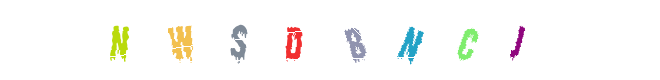B: (291, 0, 371, 80)
C: (427, 0, 507, 80)
D: (274, 0, 354, 80)
J: (478, 0, 558, 80)
N: (79, 0, 159, 80), (371, 0, 451, 80)
S: (253, 0, 333, 80)
W: (142, 0, 222, 80)
